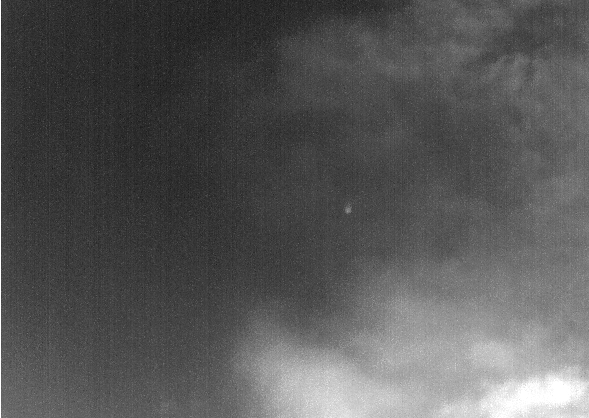dim target: (343, 206, 353, 215)
